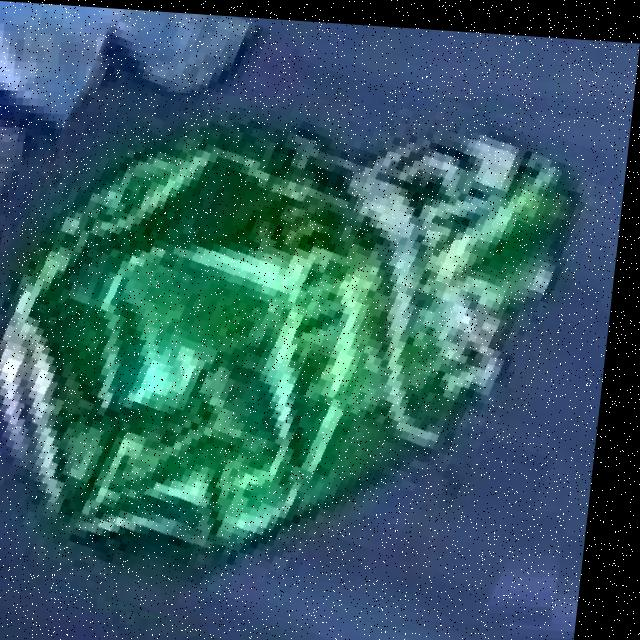can: (0, 91, 623, 615)
